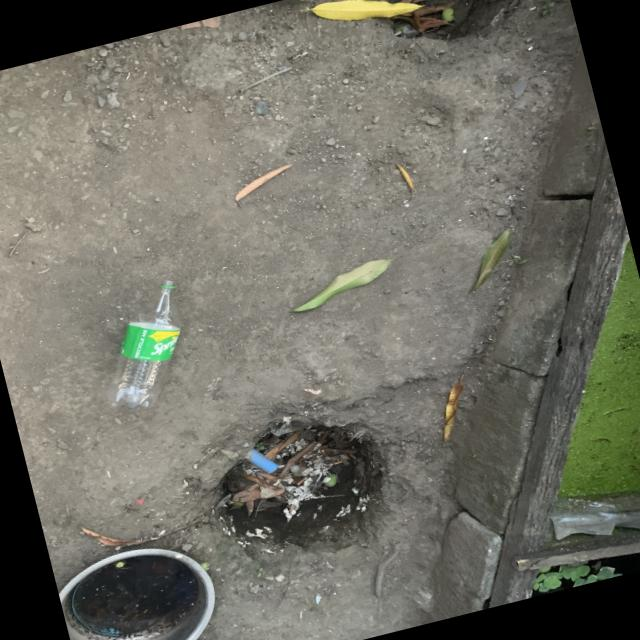Bottle: (107, 279, 181, 409)
